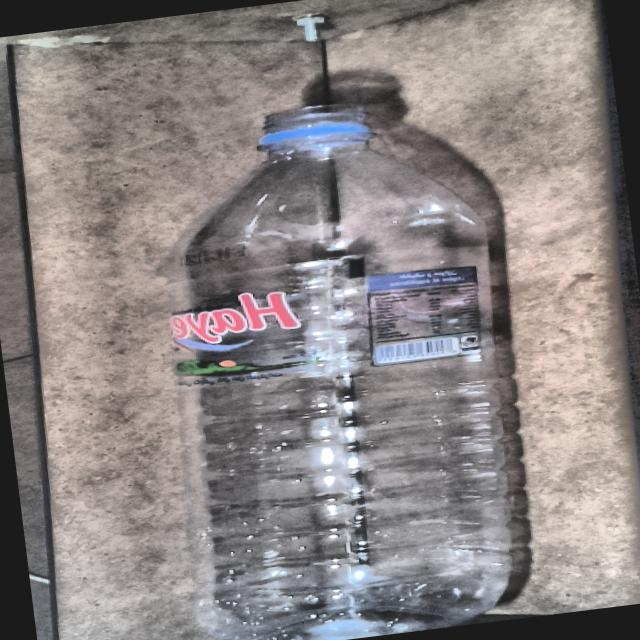plastic bottle: (169, 104, 514, 640)
